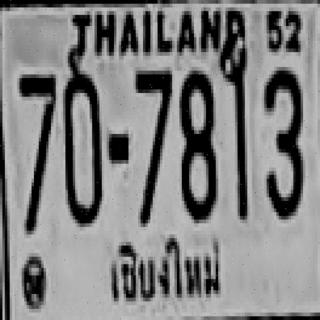N00: (64, 71, 103, 226)
N03: (262, 67, 304, 220)
N07: (18, 71, 54, 231), (134, 67, 170, 220)
N08: (180, 67, 218, 222)
P11: (101, 230, 226, 306)
